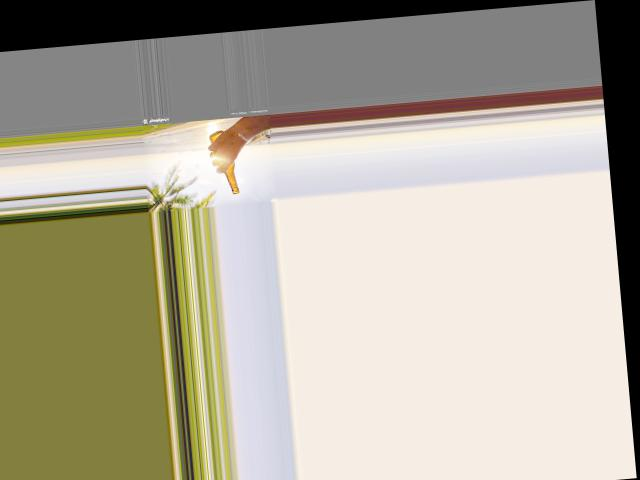beer: (209, 129, 240, 195)
